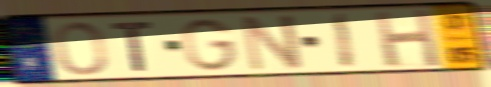G: (179, 17, 241, 73)
H: (371, 7, 445, 69)
I: (331, 11, 359, 70)
N: (239, 13, 306, 74)
O: (51, 20, 110, 77)
T: (109, 20, 157, 74)
